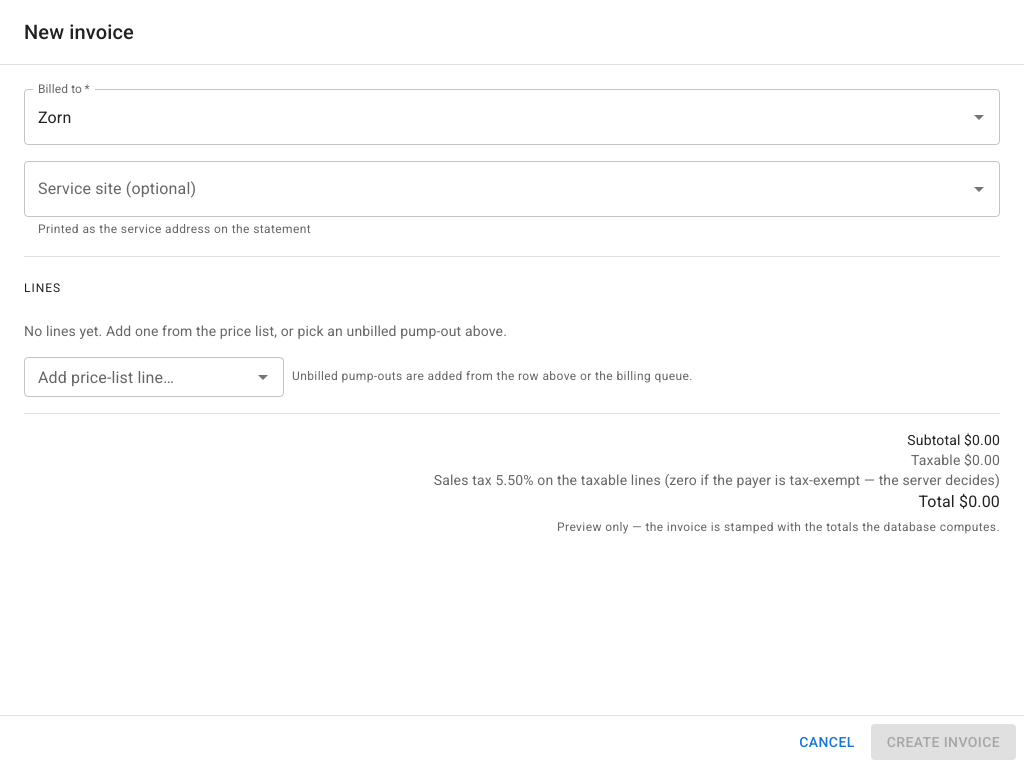
T-BIL-20: the invoice desk dialog › a price-list line joins the document with its stored price, and removing it leaves no trace
expect the text "No lines yet" is shown: met, box [24, 323, 507, 339]
Click the dropdown labelled "Add price-list line": (138, 377) [30, 363, 245, 391]
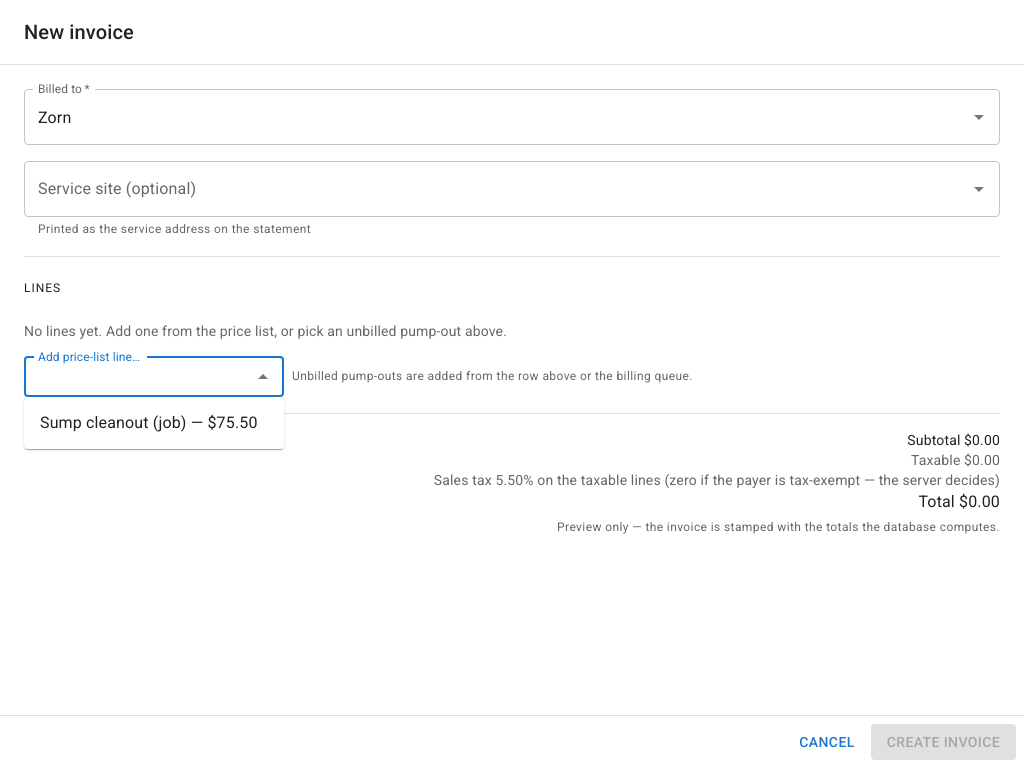
Click the option "Sump cleanout (job) — $75.50": (149, 422) [40, 413, 258, 432]
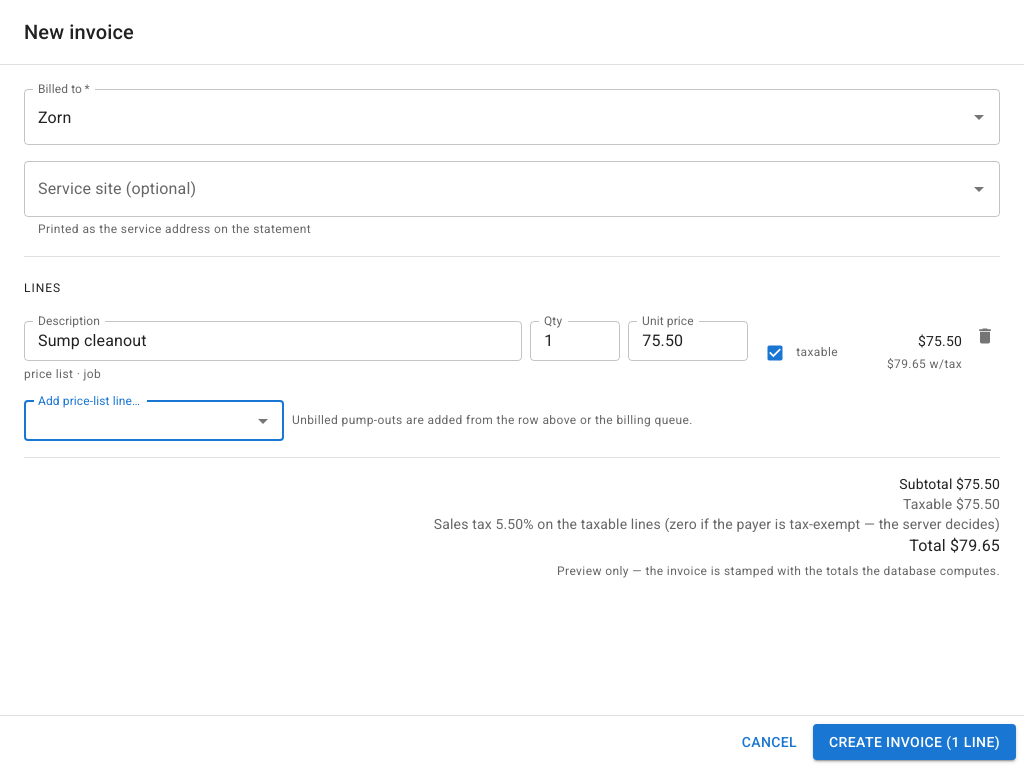
expect the field showing "Sump cleanout" is shown: met, box [24, 321, 522, 361]
expect the field showing "75.50" is shown: met, box [628, 321, 748, 361]
Click the button named "remove line 1": (985, 336) [970, 321, 1000, 351]
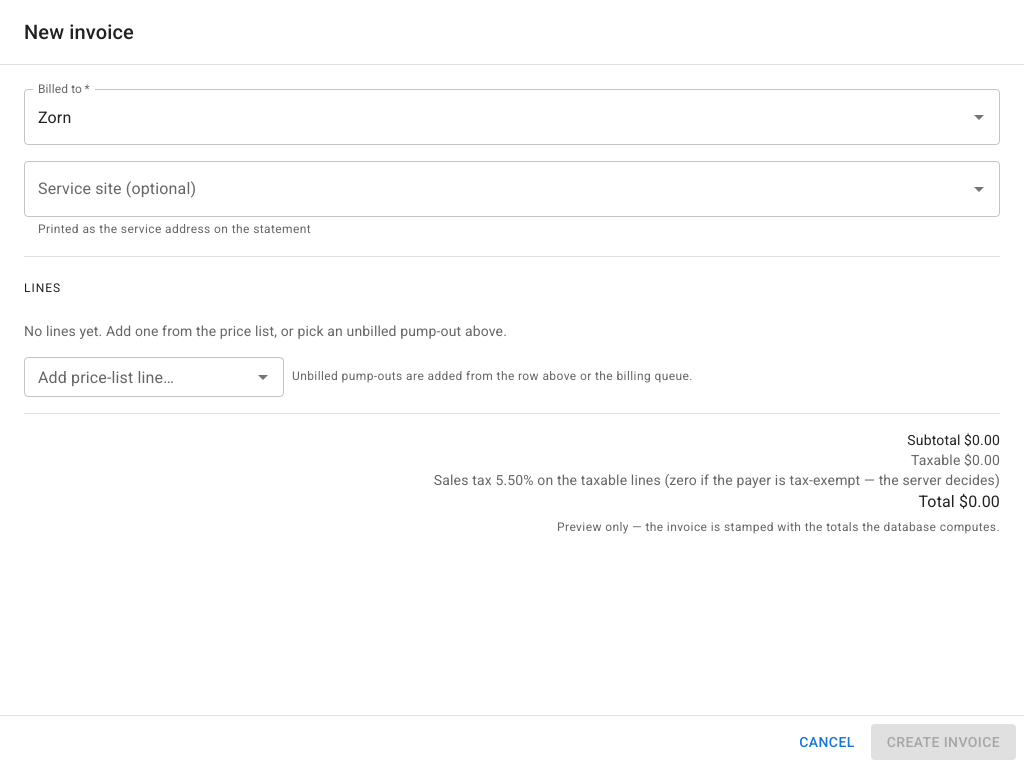
expect the text "No lines yet" is shown: met, box [24, 323, 507, 339]
